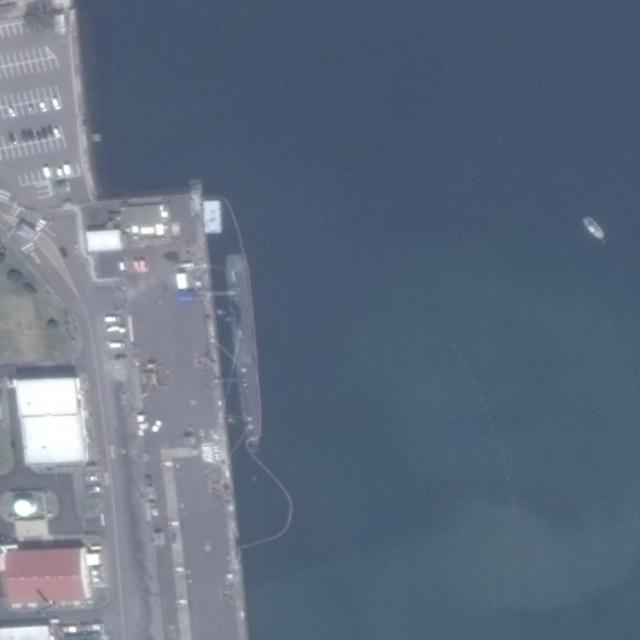Submarine: (224, 251, 264, 445)
